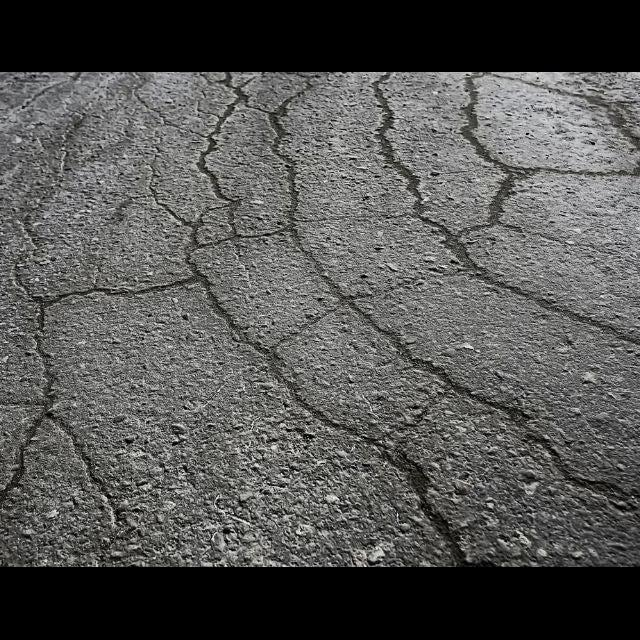retak_memanjang: (0, 72, 640, 567)
